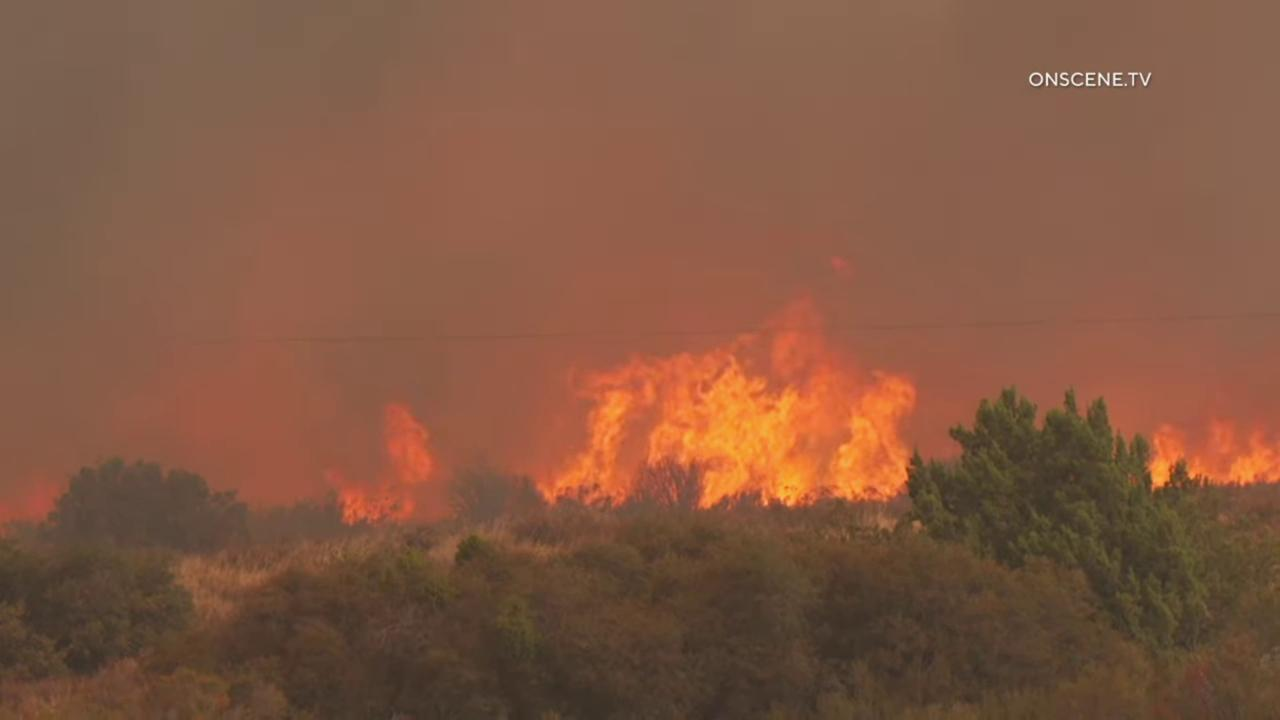fire: (524, 290, 921, 522), (314, 399, 440, 530), (1122, 409, 1280, 491)
smoke: (0, 0, 1280, 562)
